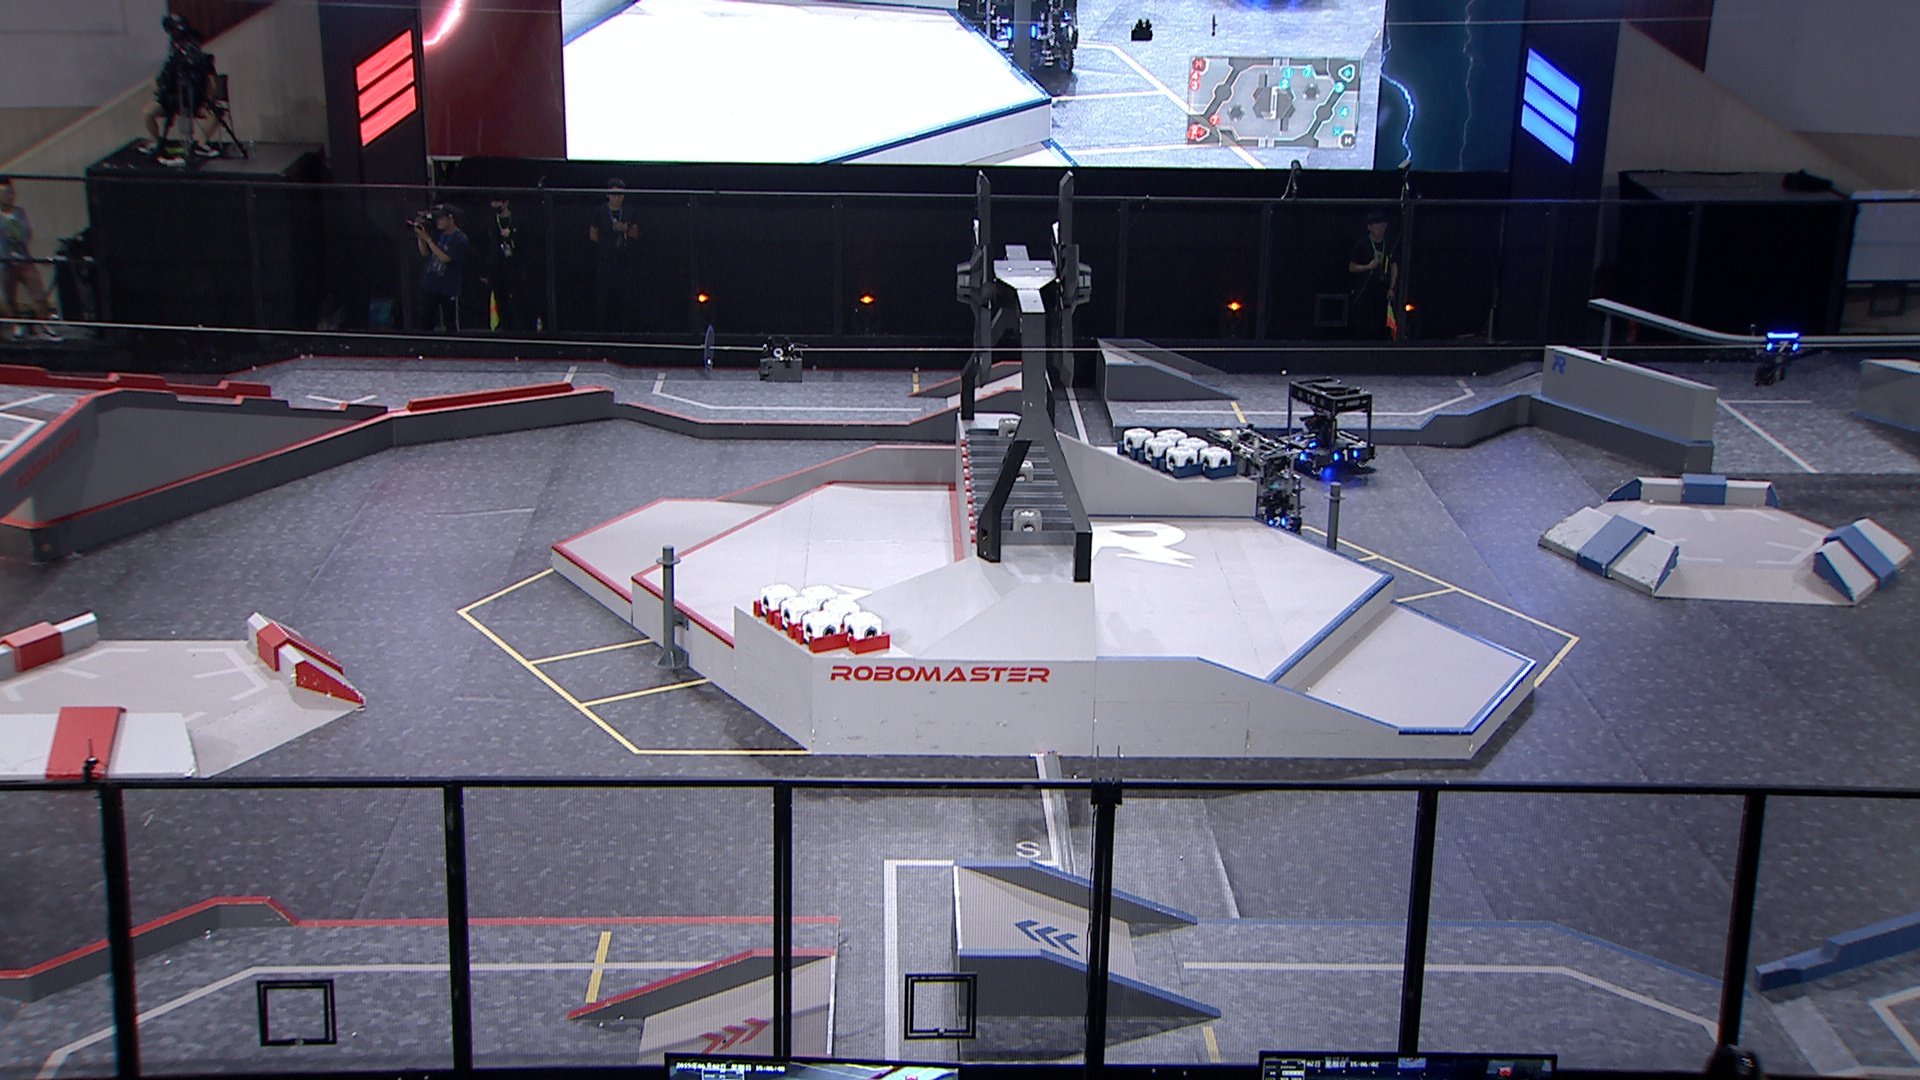armor: (1764, 342, 1797, 353), (1333, 451, 1356, 465), (1296, 433, 1316, 448), (1266, 517, 1288, 529)
car: (1203, 425, 1313, 545), (1271, 378, 1379, 477)
ignore: (959, 0, 1081, 98)
watcher: (1749, 319, 1809, 390)
